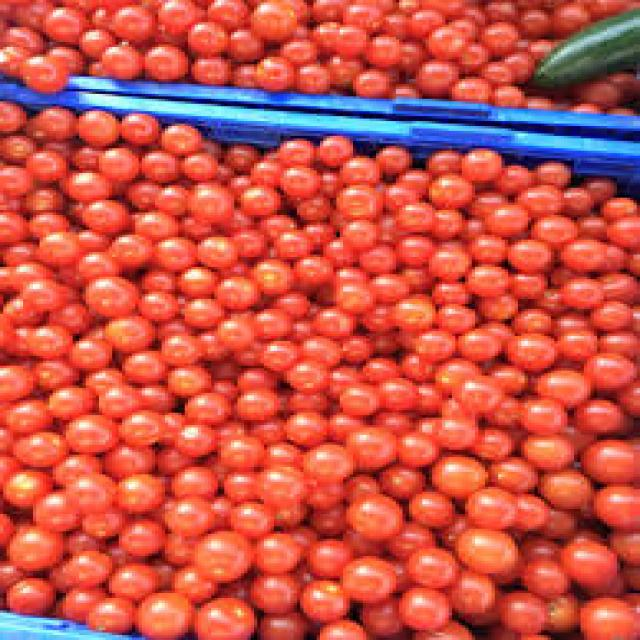organic waste: (528, 0, 637, 89), (184, 593, 260, 638), (122, 591, 195, 635), (425, 455, 495, 499), (3, 521, 63, 571), (72, 274, 142, 316), (158, 0, 214, 49), (577, 593, 637, 638), (198, 531, 247, 586), (386, 586, 449, 628), (0, 574, 73, 610), (492, 588, 544, 635), (534, 469, 600, 506), (330, 185, 396, 222), (346, 548, 396, 596), (238, 568, 300, 606), (446, 564, 488, 620), (531, 366, 591, 405), (46, 586, 116, 618), (580, 437, 636, 477), (518, 556, 571, 598), (59, 472, 112, 514), (310, 20, 366, 59), (162, 504, 221, 541), (99, 230, 158, 267), (485, 449, 531, 496), (240, 301, 294, 341), (0, 467, 53, 507), (115, 410, 168, 450), (350, 494, 392, 544), (399, 494, 455, 531), (353, 598, 412, 633), (76, 590, 125, 632), (330, 408, 379, 450), (590, 487, 636, 531), (343, 287, 389, 331), (522, 428, 578, 464), (89, 8, 152, 40), (109, 558, 162, 596), (109, 474, 162, 512), (505, 489, 551, 532), (462, 489, 511, 529), (458, 532, 512, 568), (406, 541, 452, 583), (350, 428, 396, 470), (561, 321, 607, 363), (505, 235, 551, 277), (564, 538, 614, 576), (33, 487, 76, 531), (86, 44, 145, 76), (46, 378, 92, 418), (63, 168, 109, 208), (264, 230, 327, 259), (13, 435, 66, 469), (0, 398, 53, 432), (307, 576, 346, 622), (571, 406, 627, 438), (580, 356, 636, 388), (504, 338, 558, 371), (168, 467, 218, 502), (178, 49, 228, 84), (69, 222, 122, 255), (257, 608, 317, 637), (72, 109, 116, 148), (432, 297, 482, 331), (158, 331, 202, 368), (138, 42, 182, 79), (462, 378, 508, 413), (386, 294, 432, 329), (63, 252, 122, 279), (524, 213, 578, 242), (60, 413, 106, 447), (96, 146, 142, 180), (40, 230, 86, 264), (182, 183, 224, 220), (26, 153, 70, 188), (307, 539, 346, 578), (541, 588, 577, 630), (102, 316, 145, 351), (115, 348, 165, 378), (260, 465, 304, 499), (561, 274, 607, 306), (20, 324, 66, 356), (218, 437, 267, 467), (264, 289, 313, 319), (290, 408, 327, 447), (96, 383, 135, 420), (287, 257, 340, 284), (172, 260, 214, 294), (76, 507, 125, 536), (30, 361, 79, 390), (600, 190, 637, 228), (254, 536, 294, 571), (333, 472, 373, 507), (23, 54, 63, 89), (406, 59, 448, 92), (512, 311, 558, 341), (185, 18, 228, 50), (389, 195, 426, 232), (218, 269, 257, 304), (350, 59, 389, 94), (66, 549, 106, 583), (125, 282, 175, 309), (376, 465, 422, 494), (165, 364, 201, 401), (30, 104, 66, 141), (343, 218, 379, 255), (488, 0, 541, 25), (564, 242, 601, 277), (138, 148, 175, 183), (46, 7, 83, 42), (297, 331, 340, 361), (66, 0, 152, 15), (182, 390, 228, 418), (360, 264, 406, 292), (228, 222, 267, 255), (587, 296, 627, 328), (0, 25, 40, 57), (570, 72, 614, 101), (386, 521, 422, 556), (439, 358, 475, 393), (138, 386, 175, 420), (465, 225, 502, 259), (225, 464, 258, 502), (436, 420, 475, 452), (63, 144, 102, 176), (330, 529, 376, 556), (419, 25, 465, 52), (475, 25, 521, 52), (254, 57, 290, 91), (538, 507, 580, 536), (416, 329, 458, 358), (26, 279, 66, 309), (82, 198, 132, 222), (287, 64, 327, 94), (402, 432, 436, 467), (211, 314, 248, 346), (284, 386, 333, 410), (0, 0, 49, 24), (251, 0, 290, 30), (300, 0, 353, 22), (597, 329, 637, 358), (310, 445, 350, 474), (521, 398, 561, 427), (574, 176, 614, 205), (426, 238, 458, 274), (119, 114, 155, 146), (195, 235, 231, 267), (376, 331, 422, 356), (204, 0, 250, 25), (504, 270, 548, 296), (0, 195, 26, 239), (0, 160, 30, 198), (360, 37, 402, 64), (505, 40, 534, 79), (465, 151, 498, 185), (452, 40, 485, 74), (155, 185, 185, 222), (237, 185, 274, 215), (178, 294, 215, 324), (0, 314, 23, 361), (340, 378, 376, 408), (478, 294, 518, 321), (254, 336, 294, 363), (399, 267, 439, 294), (277, 165, 317, 192), (231, 388, 280, 410), (168, 566, 205, 595), (310, 467, 340, 502), (340, 156, 376, 185), (597, 270, 637, 296), (79, 366, 122, 390), (426, 148, 458, 180), (175, 428, 214, 454), (531, 282, 568, 309), (26, 208, 63, 235), (478, 423, 512, 452), (472, 260, 501, 294), (0, 131, 36, 158), (0, 358, 26, 395), (70, 331, 102, 361), (324, 54, 356, 84), (122, 183, 155, 212), (383, 376, 412, 408), (502, 163, 531, 195), (228, 30, 260, 59), (534, 163, 571, 188), (614, 526, 636, 568), (274, 138, 307, 166), (248, 210, 290, 232), (310, 618, 356, 638), (270, 435, 297, 469), (264, 499, 300, 524), (333, 0, 373, 22), (281, 37, 310, 67), (0, 299, 36, 323), (155, 235, 191, 259), (380, 141, 402, 180), (320, 230, 346, 262), (393, 230, 419, 262), (462, 331, 495, 356), (455, 74, 485, 101), (234, 366, 274, 386), (429, 622, 478, 638), (231, 59, 257, 89), (551, 0, 577, 30), (248, 260, 280, 284), (379, 79, 416, 99), (0, 99, 23, 131), (287, 193, 330, 210), (360, 244, 386, 272), (287, 364, 320, 386), (396, 168, 425, 193), (554, 307, 584, 331), (201, 371, 231, 395), (310, 307, 340, 331), (380, 15, 412, 37), (482, 57, 508, 84), (320, 264, 353, 284), (0, 44, 23, 72), (607, 64, 630, 92), (337, 334, 366, 356), (165, 126, 188, 153), (610, 386, 637, 408), (439, 0, 478, 15), (412, 381, 432, 410), (257, 151, 277, 180), (376, 346, 399, 371), (221, 148, 247, 170), (333, 358, 363, 376), (521, 89, 548, 109), (324, 141, 346, 165), (3, 260, 40, 274), (0, 264, 16, 296), (0, 240, 30, 257), (422, 210, 449, 227), (363, 0, 392, 15), (561, 96, 594, 109), (492, 86, 514, 104), (399, 0, 428, 12), (531, 30, 554, 44), (0, 514, 10, 546), (198, 138, 214, 158), (132, 269, 165, 277), (607, 106, 624, 109)
